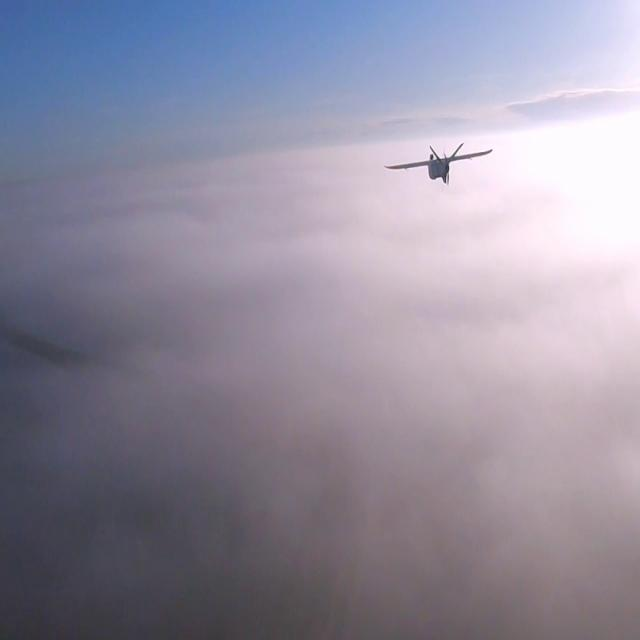iha: (419, 140, 461, 192)
